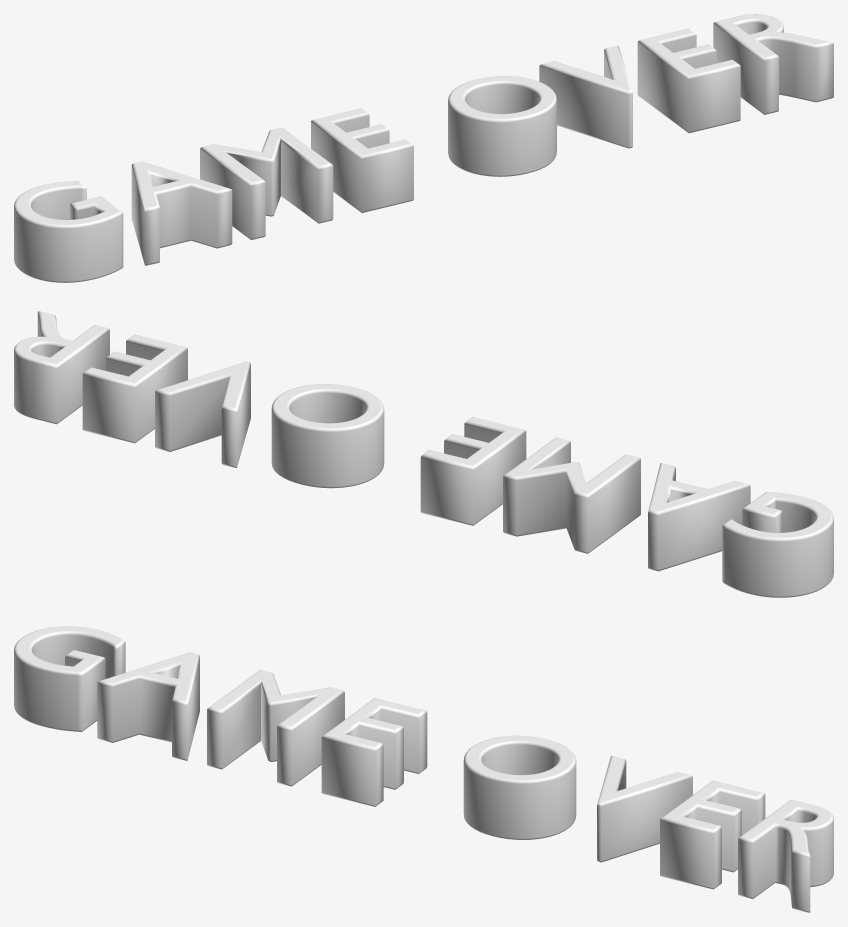
File: gameover.obj
3 views of the same model, one above another, from view 1: azimuth 30°, elevation 25°; view 2: azimuth 150°, elevation 25°; view 3: azimuth 330°, elevation 25° (orthographic). The views are drawn at different scales.
Visible parts, largest first — view 1: テキスト; view 2: テキスト; view 3: テキスト.
Boxes of the visible parts, x1=… form: テキスト: x1=14, y1=14, x2=833, y2=282; テキスト: x1=14, y1=311, x2=833, y2=597; テキスト: x1=14, y1=626, x2=833, y2=912.
Bounding box in the file's own units: 6.28 × 0.44 × 0.72.
1 material, 1 textured.
